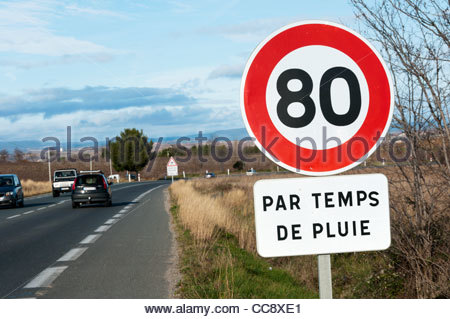Speed_limit_80km: (239, 21, 395, 176)
